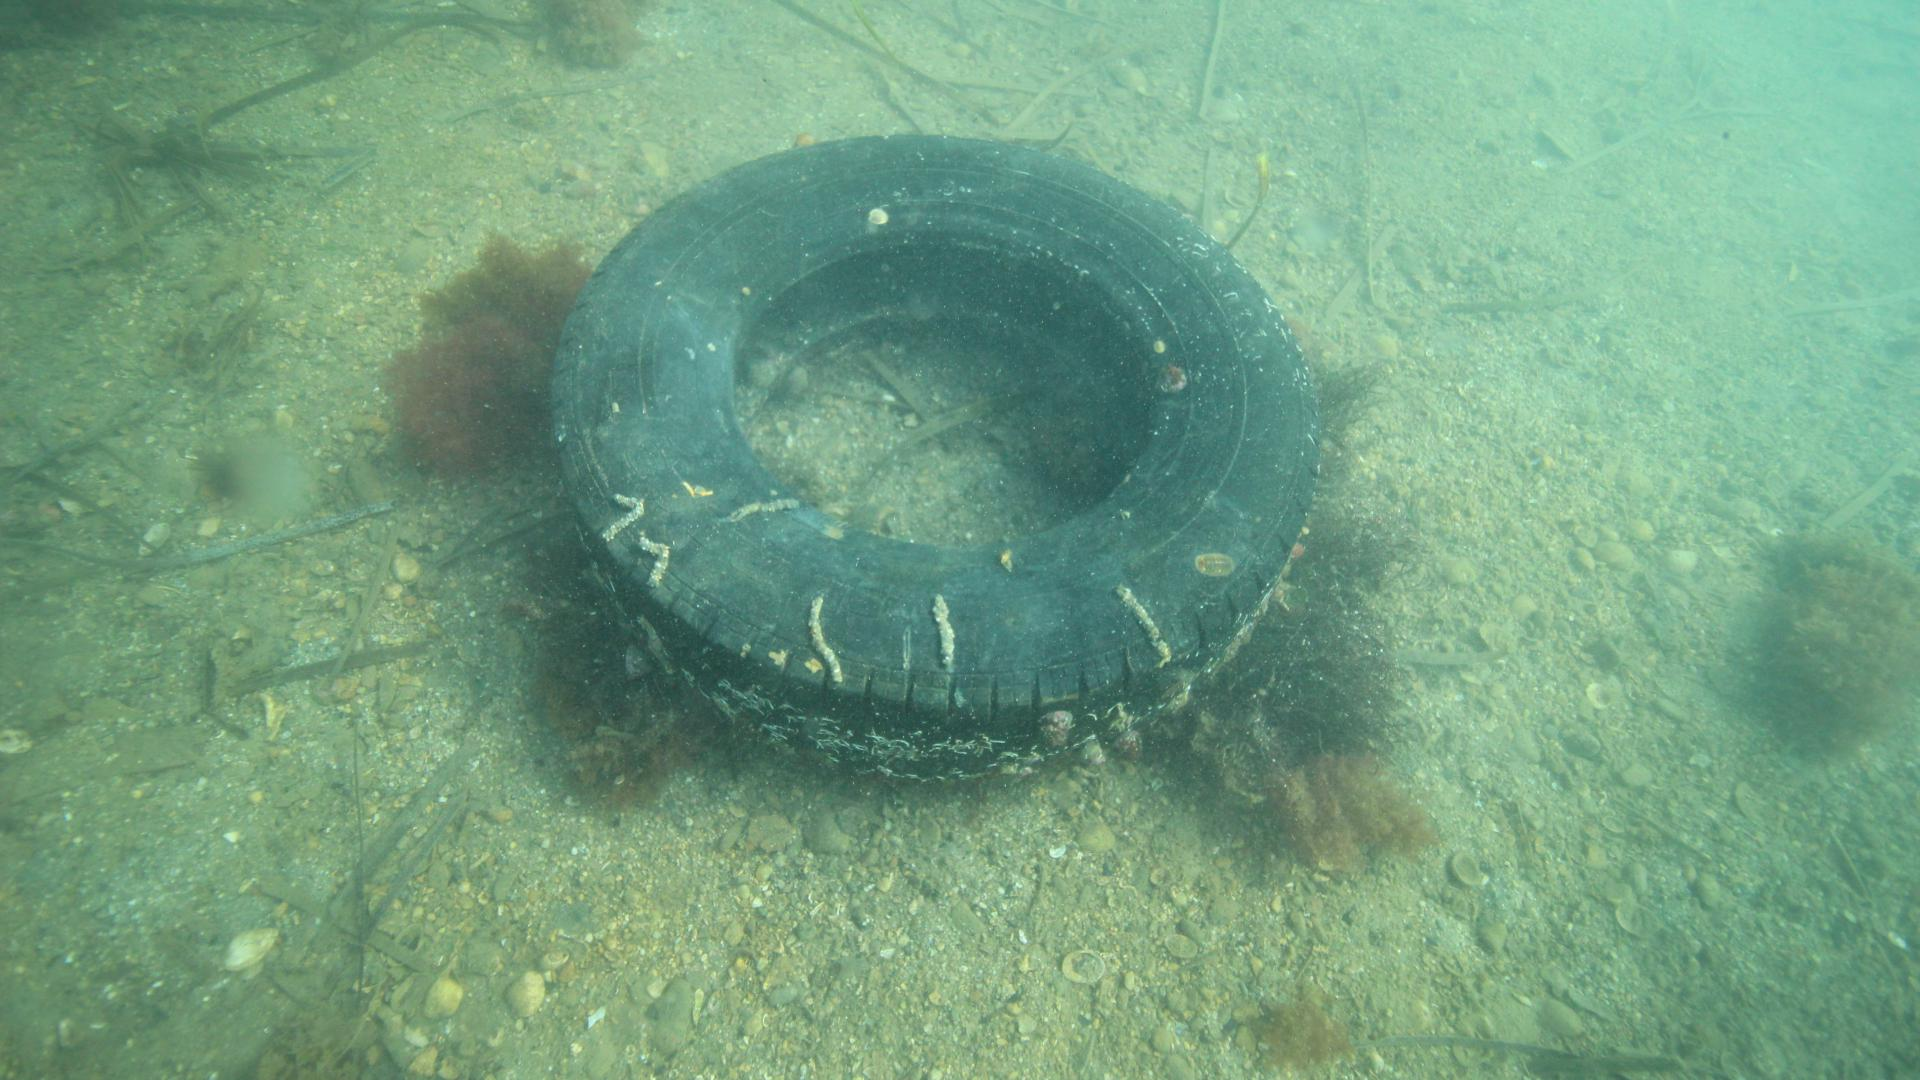tire: (553, 136, 1324, 773)
